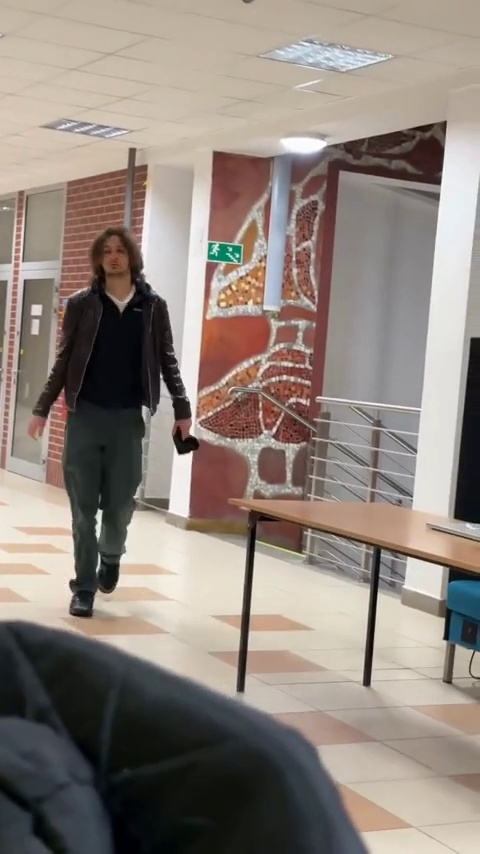no vest: (41, 231, 197, 617)
